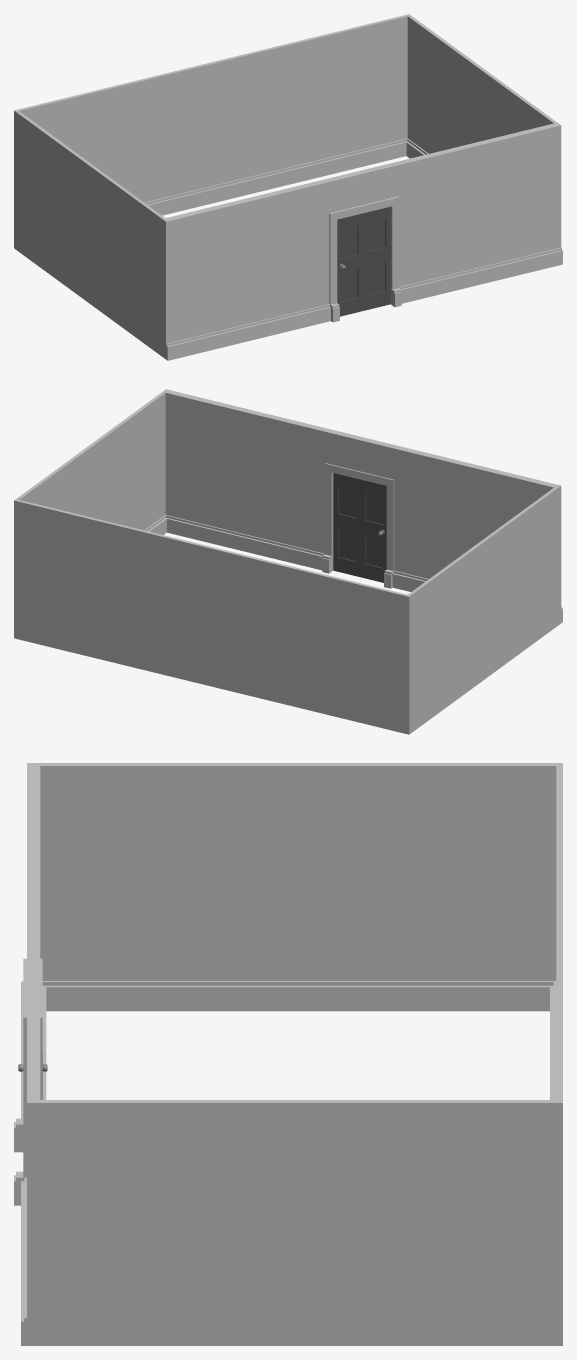
The model's file is WindowlessGuestRoom.fbx.
The picture shows the model from 3 angles, top to bottom: view 1: azimuth 30°, elevation 25°; view 2: azimuth 150°, elevation 25°; view 3: azimuth 270°, elevation 25°; orthographic projection. The views are drawn at different scales.
Parts seen in each view (by area): view 1: WallRight8 (×6), WallRight9, LowPloyGuestDoorwayWall3, WallRight7 (×2), Door1; view 2: WallRight8 (×4), WallRight7 (×4), WallRight9, LowPloyGuestDoorwayWall3, Door1; view 3: WallRight8 (×6), WallRight7 (×4), LowPloyGuestDoorwayWall3, WallRight9.
Part boxes in pixels (x1,y1,x2,y2): WallRight8 (×6): (14,14,562,360); WallRight9: (149,46,284,215); LowPloyGuestDoorwayWall3: (294,154,431,328); WallRight7 (×2): (406,14,561,247); Door1: (337,206,390,316); WallRight8 (×4): (14,485,561,734); WallRight7 (×4): (14,389,555,638); WallRight9: (144,531,275,701); LowPloyGuestDoorwayWall3: (292,421,429,591); Door1: (333,473,386,582); WallRight8 (×6): (21,763,562,1345); WallRight7 (×4): (27,763,562,1345); LowPloyGuestDoorwayWall3: (14,876,46,1208); WallRight9: (550,879,562,1099).
Size of the model in its own units: 12 by 4 by 8.19.
